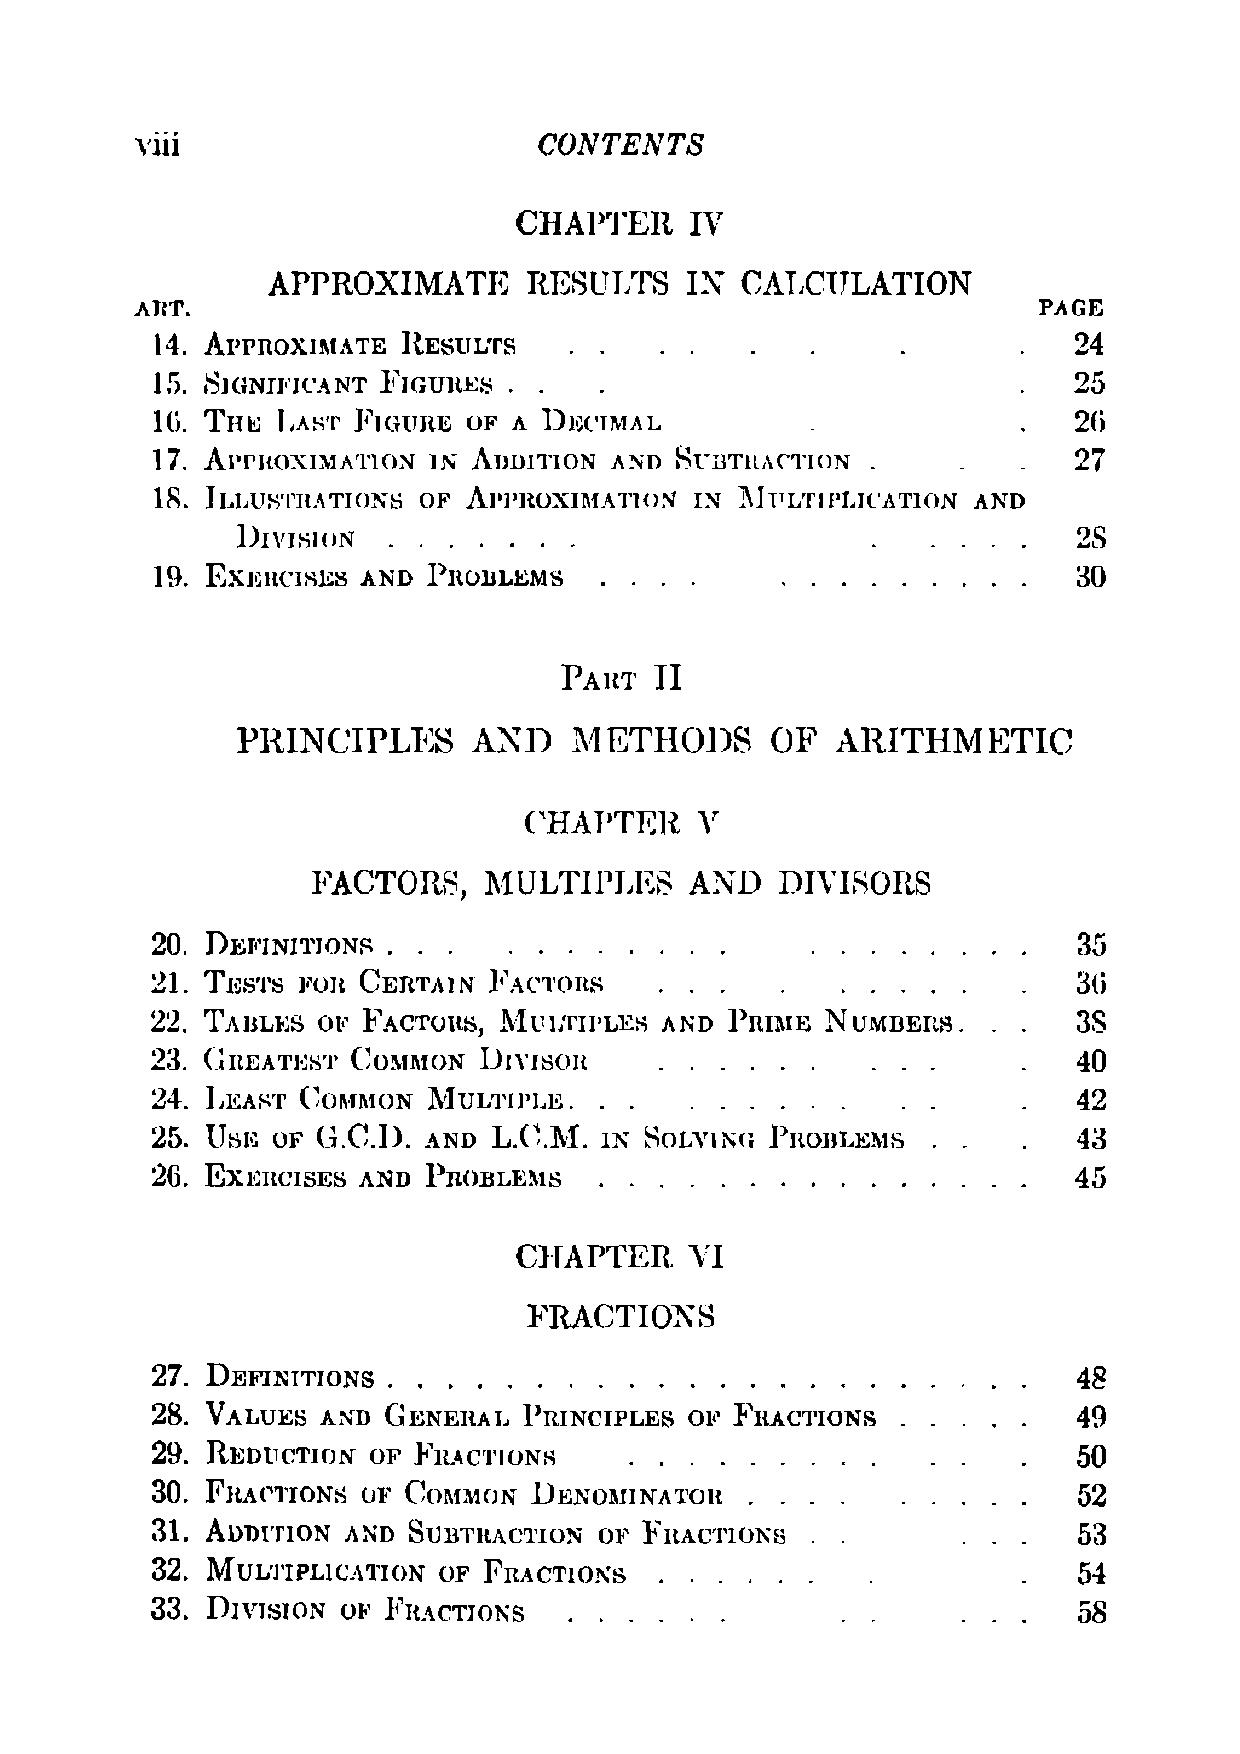TOC_chapter: (225, 652, 1082, 770), (262, 203, 990, 306), (301, 798, 947, 906), (148, 480, 1029, 556), (148, 1002, 957, 1039), (150, 1397, 882, 1435), (150, 437, 851, 476), (144, 1119, 911, 1154), (503, 1224, 729, 1341), (150, 1512, 792, 1547), (146, 1472, 730, 1508), (146, 1554, 631, 1593), (144, 317, 522, 362), (153, 557, 570, 597), (145, 407, 666, 437), (140, 964, 605, 997), (146, 1043, 595, 1074), (146, 1436, 566, 1468), (145, 1080, 573, 1111), (146, 362, 497, 397), (148, 1593, 523, 1625), (146, 1162, 568, 1190), (146, 915, 374, 958), (145, 1357, 376, 1392)
TOC_pagenumber: (1071, 919, 1111, 958), (1071, 1357, 1113, 1394), (1071, 1004, 1111, 1039), (1074, 1079, 1113, 1113), (1071, 1436, 1110, 1469), (1075, 1478, 1115, 1508), (1076, 1158, 1111, 1193), (1074, 557, 1110, 590), (1076, 1118, 1113, 1151), (1076, 1550, 1108, 1588), (1075, 1515, 1110, 1549), (1071, 326, 1106, 358), (1076, 1594, 1108, 1629), (1075, 1044, 1108, 1075), (1075, 965, 1110, 994), (1071, 366, 1104, 396), (1075, 446, 1106, 476), (1075, 407, 1106, 435), (1075, 523, 1108, 549), (1076, 1404, 1108, 1428)
chapter: (527, 122, 709, 164)
